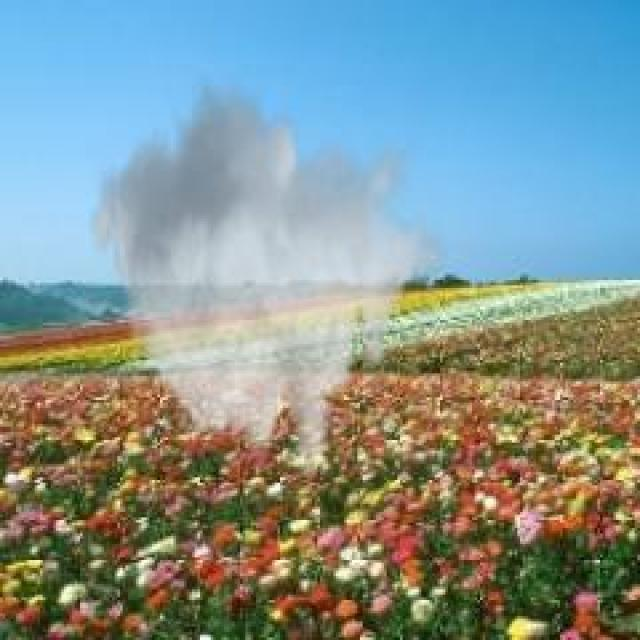Smoke: (90, 74, 422, 472)
